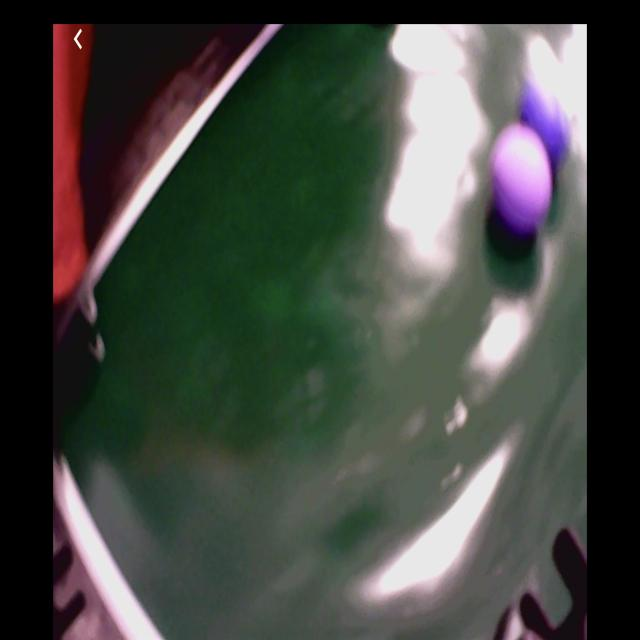ball: (493, 130, 554, 233), (521, 82, 572, 173)
